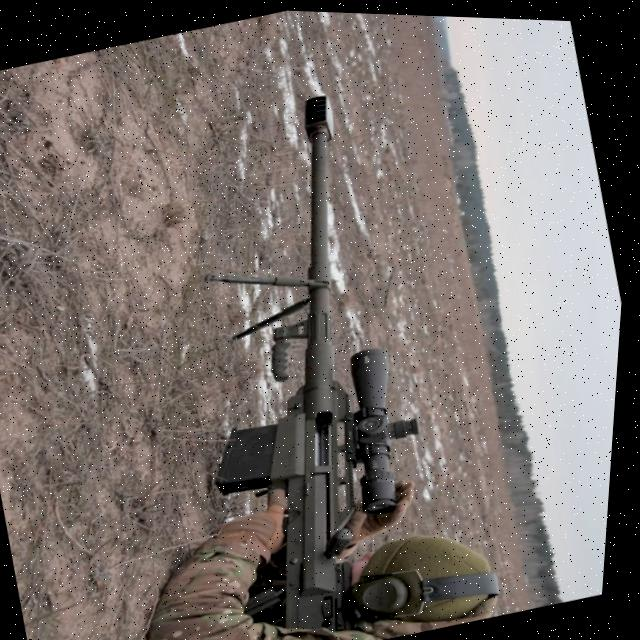firearm: (120, 73, 491, 640)
